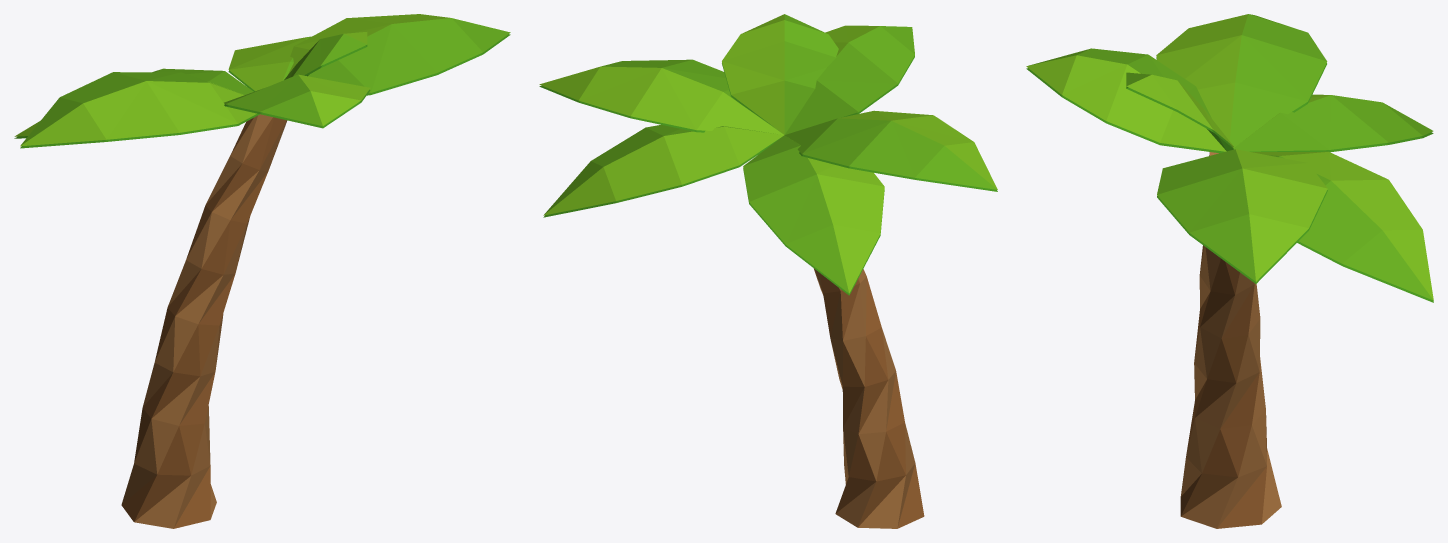
File: prop-palm.glb
The picture shows the model from 3 angles, left to right: view 1: azimuth 30°, elevation 25°; view 2: azimuth 150°, elevation 25°; view 3: azimuth 270°, elevation 25°; orthographic projection. The views are drawn at different scales.
Parts seen in each view (by area): view 1: palm; view 2: palm; view 3: palm.
Boxes of the visible parts, x1=… form: palm: x1=14, y1=14, x2=510, y2=528; palm: x1=539, y1=14, x2=997, y2=528; palm: x1=1026, y1=14, x2=1433, y2=528.
Bounding box in the file's own units: 7.16 × 6.5 × 4.75.
